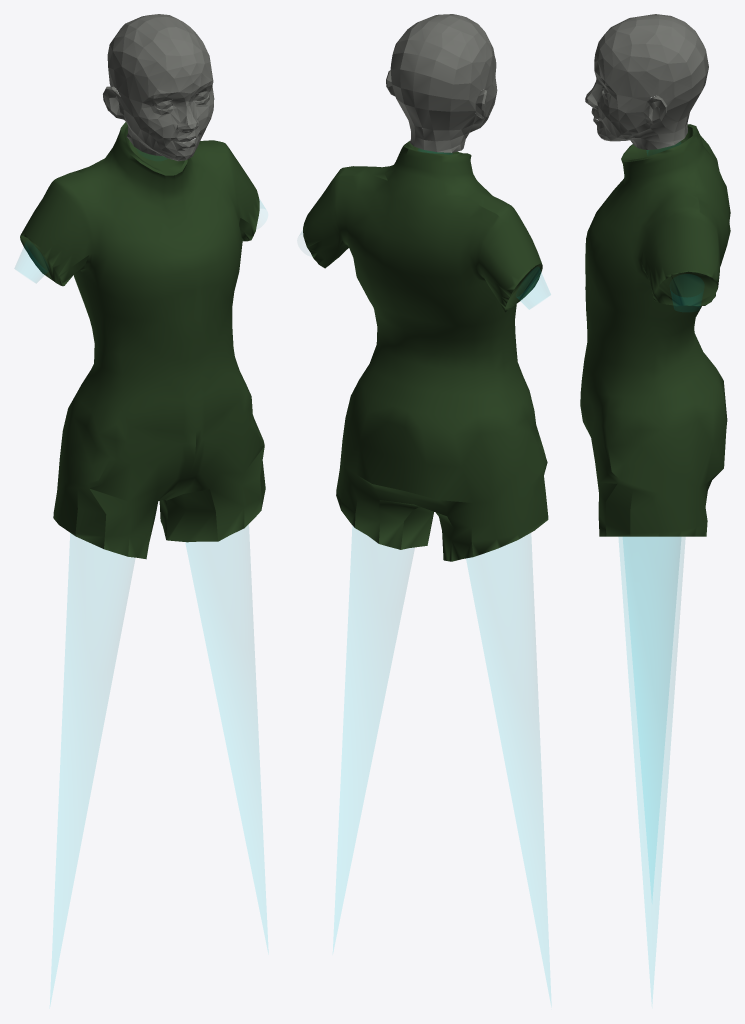
File: newava3.glb
3 renders of one model, left to right at view 1: azimuth 30°, elevation 25°; view 2: azimuth 150°, elevation 25°; view 3: azimuth 270°, elevation 25°, orthographic. The views are drawn at different scales.
Parts seen in each view (by area): view 1: Wolf3D_Outfit_Top, Cone, Wolf3D_Head; view 2: Wolf3D_Outfit_Top, Cone, Wolf3D_Head; view 3: Wolf3D_Outfit_Top, Cone, Wolf3D_Head.
Part boxes in pixels (x1,y1,x2,y2): Wolf3D_Outfit_Top: [20, 122, 265, 559]; Cone: [15, 201, 267, 1002]; Wolf3D_Head: [103, 14, 214, 161]; Wolf3D_Outfit_Top: [303, 141, 548, 561]; Cone: [300, 149, 550, 1000]; Wolf3D_Head: [386, 14, 497, 152]; Wolf3D_Outfit_Top: [580, 124, 730, 536]; Cone: [619, 150, 702, 998]; Wolf3D_Head: [585, 14, 708, 149].
Size of the model in its own units: 0.4677 by 1.72 by 0.2501.
